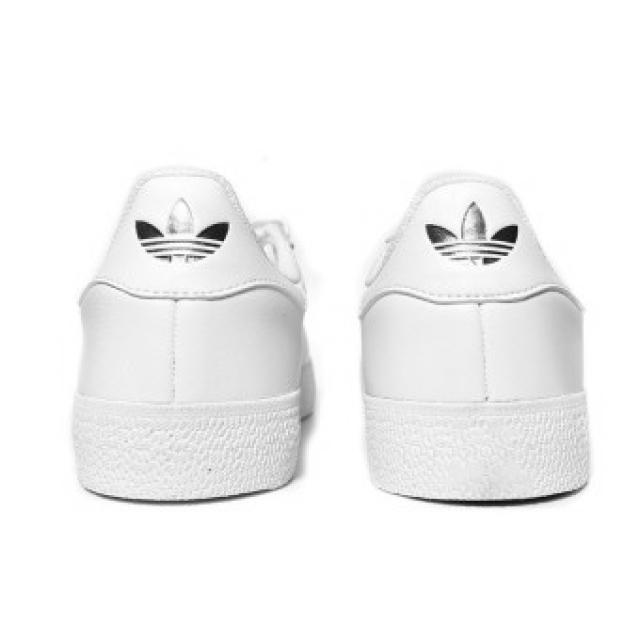Adidas: (126, 192, 237, 278), (422, 196, 531, 279)
